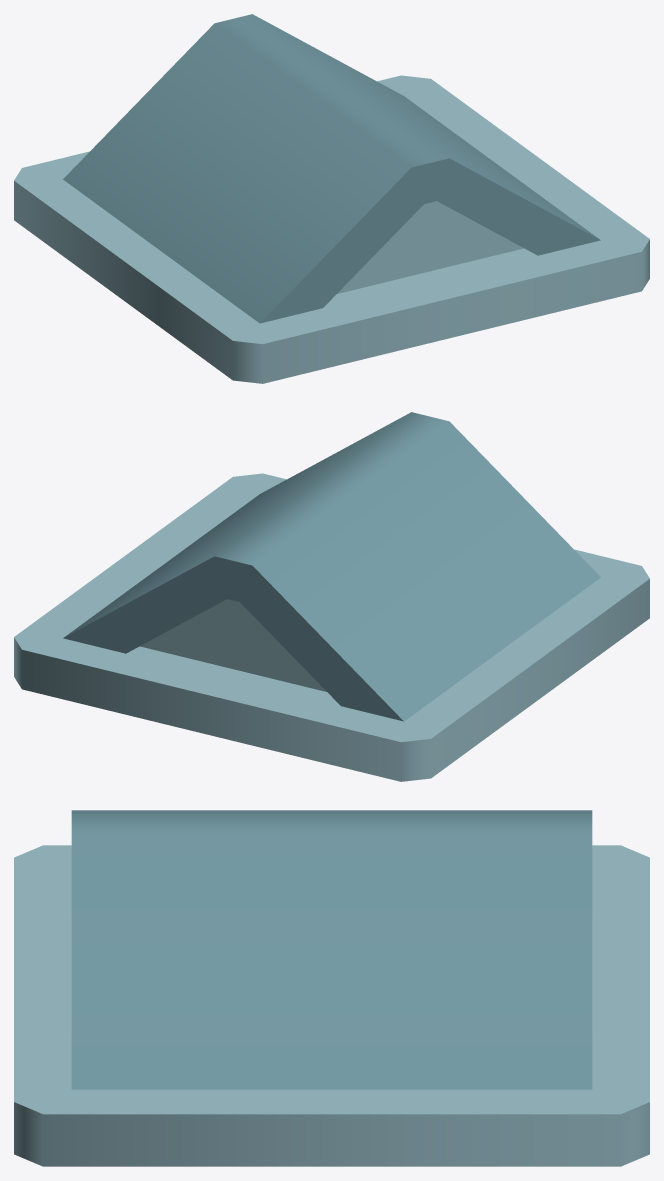
The model's file is cryptSmallRoof.fbx.
3 views of the same model, one above another, from view 1: azimuth 30°, elevation 25°; view 2: azimuth 150°, elevation 25°; view 3: azimuth 270°, elevation 25° (orthographic). The views are drawn at different scales.
Visible parts, largest first — view 1: cryptSmallRoof; view 2: cryptSmallRoof; view 3: cryptSmallRoof.
Part boxes in pixels (x1,y1,x2,y2): cryptSmallRoof: (14, 14, 649, 383); cryptSmallRoof: (14, 412, 649, 781); cryptSmallRoof: (14, 810, 649, 1166).
Bounding box in the file's own units: 11 × 4 × 11.
